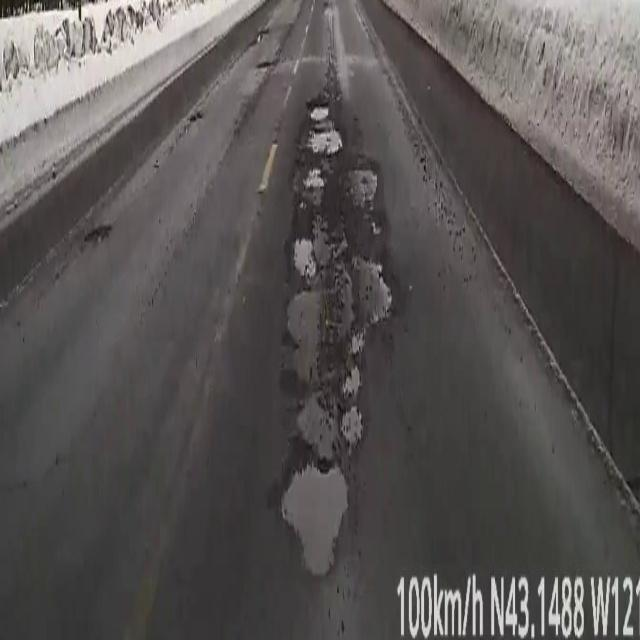pothole: (280, 190, 390, 490), (86, 227, 108, 240)
